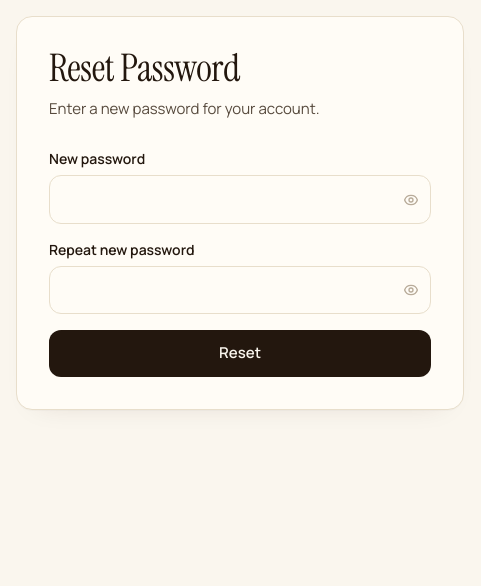
ResetPassword page › shows "Password must be at least 8 characters." when new password is too short
Type "short" into the password field labelled "New password" at (240, 200), box [49,175,431,224]
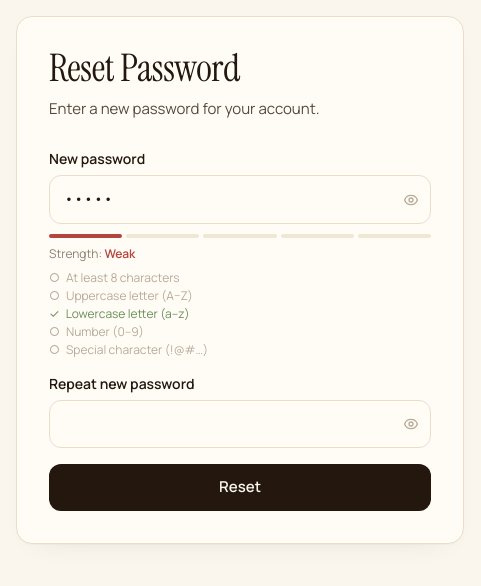
Type "short" into the password field labelled "Repeat new password" at (240, 424), box [49,400,431,448]
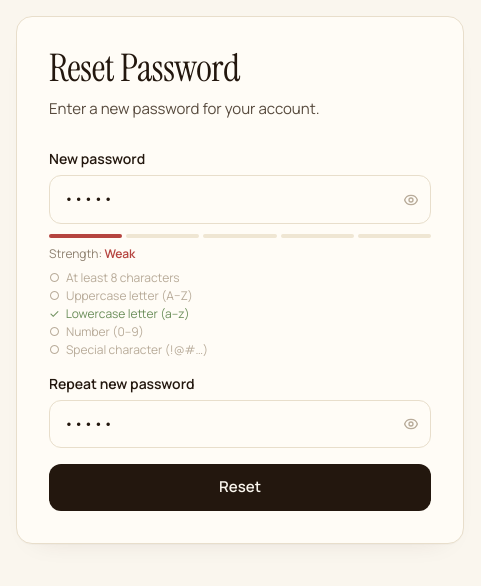
Submit the form named "reset", box [49,149,431,511]
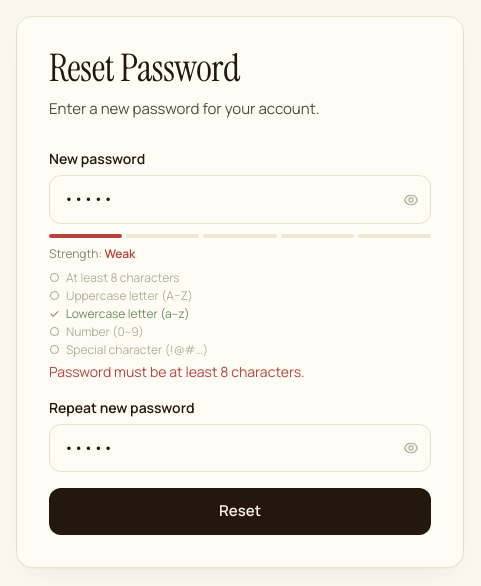
Expected: the text "Password must be at least 8 characters." is shown, [49,362,305,381]
